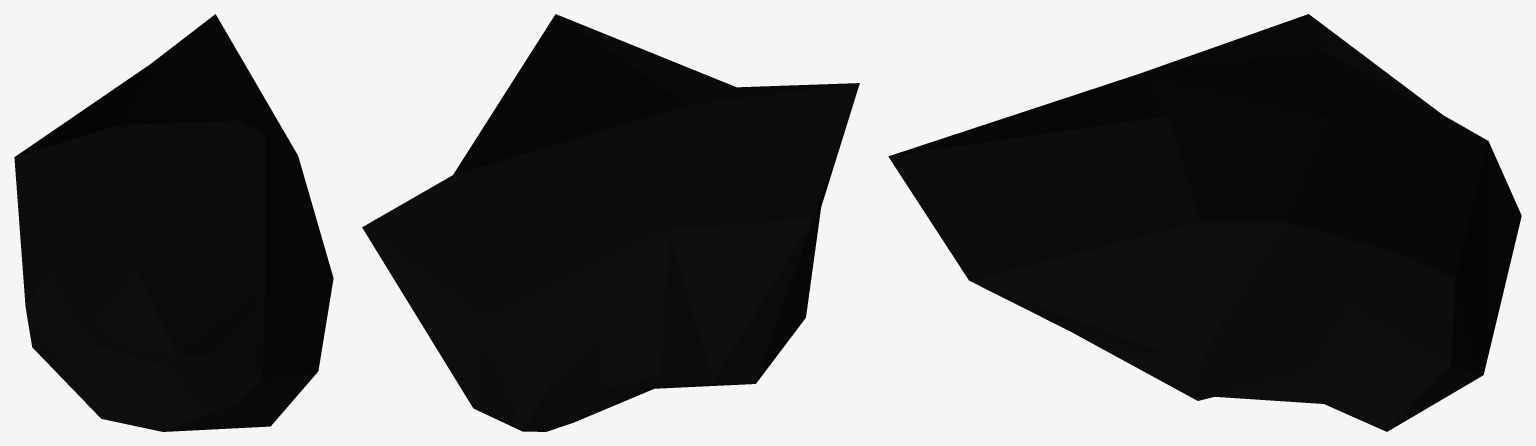
3 renders of one model, left to right at view 1: azimuth 30°, elevation 25°; view 2: azimuth 150°, elevation 25°; view 3: azimuth 270°, elevation 25°, orthographic. The views are drawn at different scales.
Size of the model in its own units: 0.5019 by 0.5682 by 0.7773.
1 material, 1 textured.
